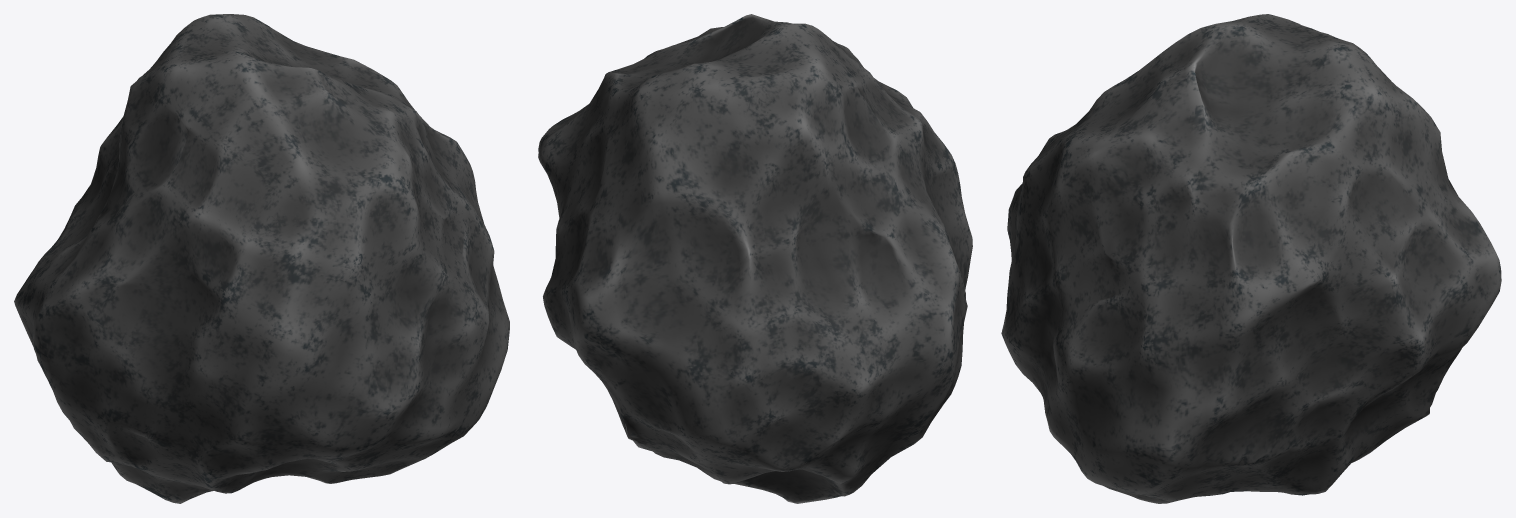
The model's file is Asteroids.obj.
The picture shows the model from 3 angles, left to right: view 1: azimuth 30°, elevation 25°; view 2: azimuth 150°, elevation 25°; view 3: azimuth 270°, elevation 25°; orthographic projection. The views are drawn at different scales.
Visible parts, largest first — view 1: Pedra2; view 2: Pedra2; view 3: Pedra2.
Boxes of the visible parts, left/top/right/bottom form: Pedra2: left=14, top=14, right=509, bottom=503; Pedra2: left=538, top=14, right=972, bottom=503; Pedra2: left=1001, top=14, right=1501, bottom=503.
Bounding box in the file's own units: 3.67 × 3.7 × 3.67.
1 material, 1 textured.
